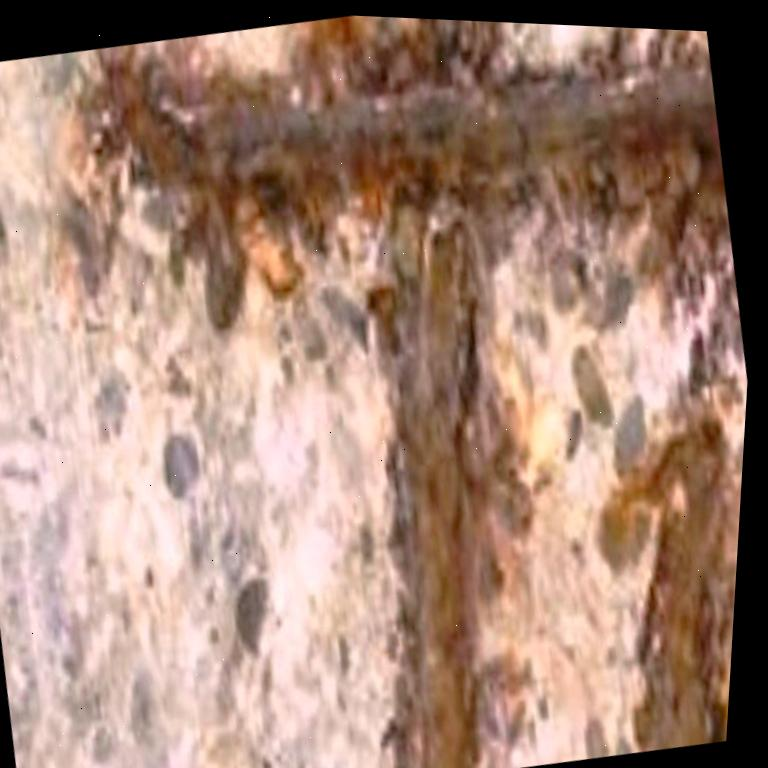exposed_rebar: (70, 50, 716, 328), (368, 204, 482, 768), (633, 413, 740, 751)
spalling: (0, 16, 747, 768)
